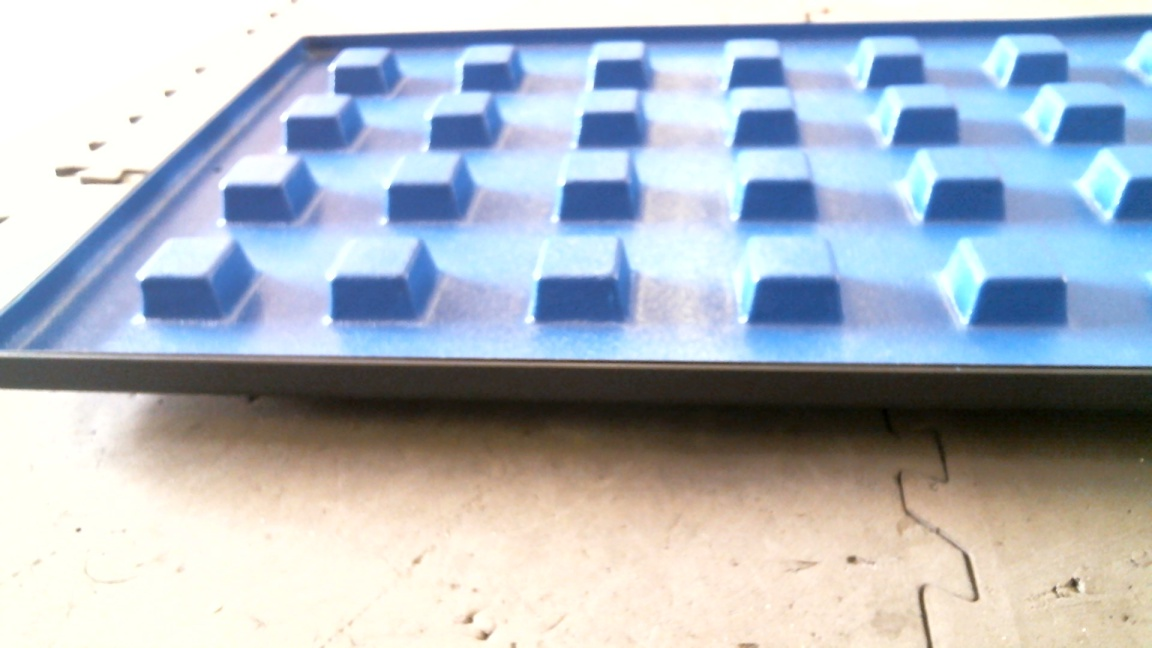blue_foundation: (1, 12, 1152, 414)
